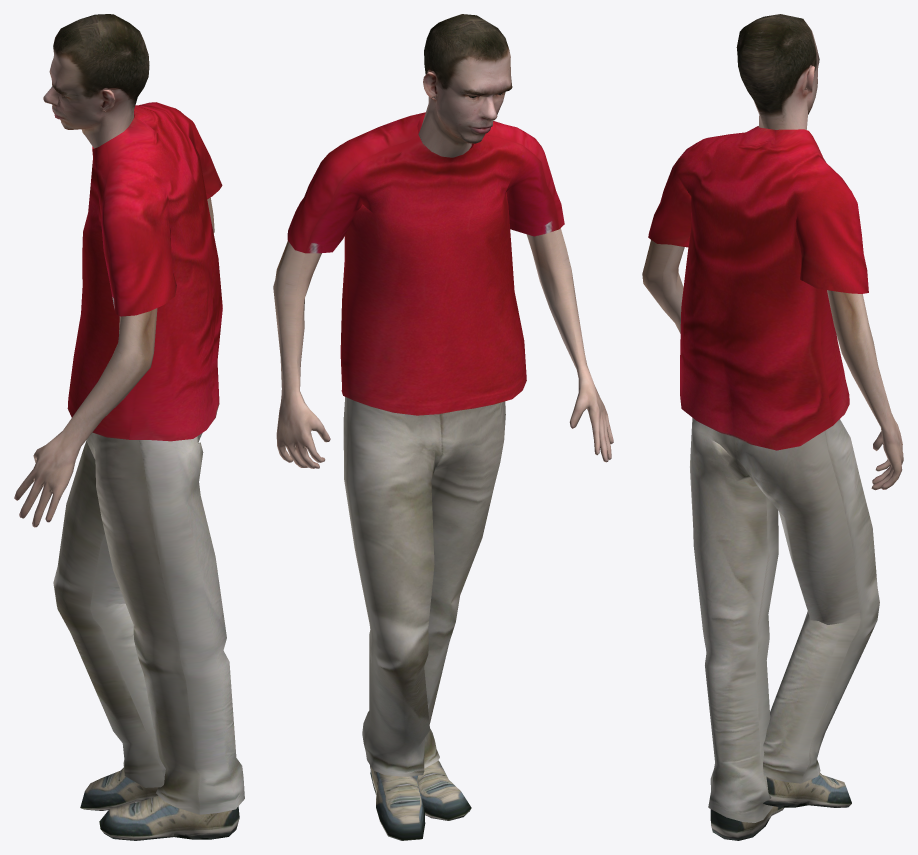
Rendered from чел6.fbx.
The picture shows the model from 3 angles, left to right: view 1: azimuth 30°, elevation 25°; view 2: azimuth 150°, elevation 25°; view 3: azimuth 270°, elevation 25°; orthographic projection. The views are drawn at different scales.
Parts seen in each view (by area): view 1: Man; view 2: Man; view 3: Man.
Boxes of the visible parts, x1,y1,x2,y2 form: Man: [14, 14, 244, 840]; Man: [273, 14, 613, 840]; Man: [642, 14, 903, 840].
Bounding box in the file's own units: 600 × 1762 × 539.
